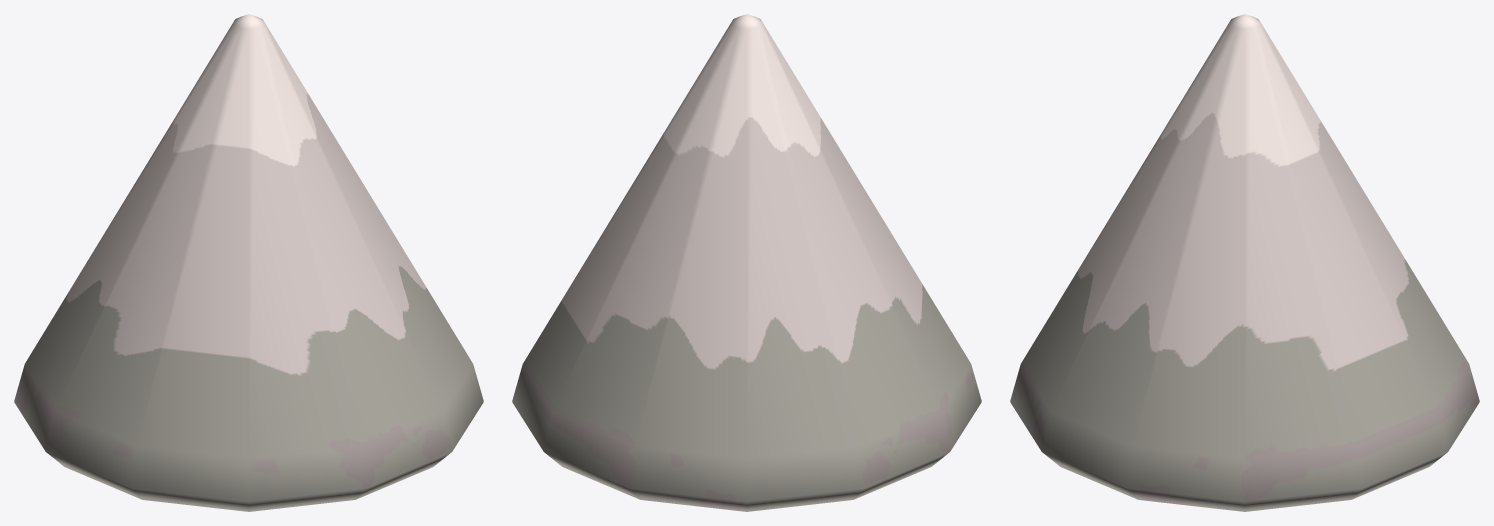
The picture shows the model from 3 angles, left to right: view 1: azimuth 30°, elevation 25°; view 2: azimuth 150°, elevation 25°; view 3: azimuth 270°, elevation 25°; orthographic projection.
Parts seen in each view (by area): view 1: R4B_Cone_LOD1; view 2: R4B_Cone_LOD1; view 3: R4B_Cone_LOD1.
Boxes of the visible parts, x1=… form: R4B_Cone_LOD1: x1=14, y1=14, x2=483, y2=511; R4B_Cone_LOD1: x1=512, y1=14, x2=981, y2=511; R4B_Cone_LOD1: x1=1010, y1=14, x2=1479, y2=511.
Size of the model in its own units: 0.52 by 0.4987 by 0.52.
1 material, 1 textured.
